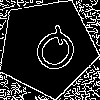Q: (22, 22, 84, 84)
